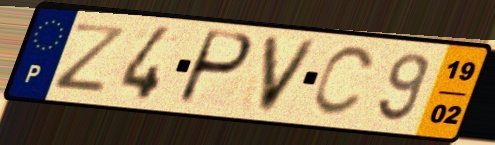4: (115, 24, 174, 103)
9: (376, 51, 431, 123)
C: (307, 44, 379, 120)
P: (173, 27, 257, 108)
V: (254, 33, 322, 117)
Z: (52, 20, 133, 95)
